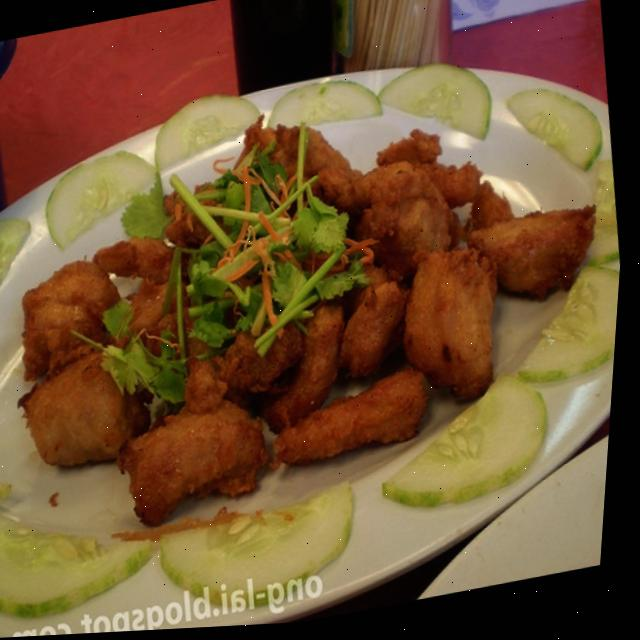鸡肉料理 含炸鸡: (0, 17, 638, 640)
